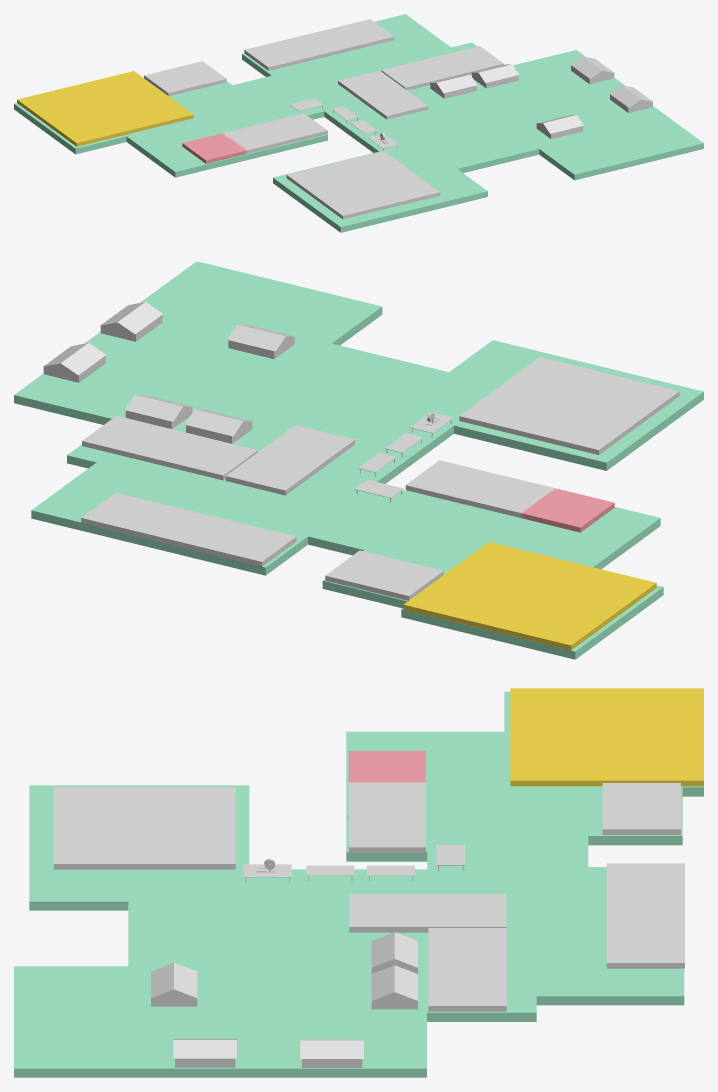
Rendered from schoolmap_1F.glb.
3 renders of one model, top to bottom at view 1: azimuth 30°, elevation 25°; view 2: azimuth 150°, elevation 25°; view 3: azimuth 270°, elevation 25°, orthographic. The views are drawn at different scales.
Visible parts, largest first — view 1: 1F, 1F_ground, 128, 225-1F, 111, 108, 106, 113, 102, 104, 103, stall5 (+4 smaller); view 2: 1F, 1F_ground, 128, 225-1F, 111, 108, 106, 113, 102, 104, 103, stall5 (+4 smaller); view 3: 1F, 1F_ground, 128, 225-1F, 111, 108, 106, 113, 104, 103, 102, stall1 (+6 smaller).
Boxes of the visible parts, x1,y1,x2,y2 form: 1F: (14, 14, 487, 232); 1F_ground: (389, 50, 703, 180); 128: (17, 71, 193, 146); 225-1F: (286, 151, 440, 219); 111: (244, 19, 394, 70); 108: (381, 46, 503, 90); 106: (338, 70, 428, 119); 113: (144, 61, 226, 96); 102: (182, 133, 247, 163); 104: (263, 113, 327, 143); 103: (222, 123, 286, 153); stall5: (571, 56, 614, 84); 1F: (31, 340, 703, 659); 1F_ground: (14, 261, 448, 451); 128: (403, 542, 656, 650); 225-1F: (459, 357, 679, 454); 111: (81, 492, 296, 566); 108: (82, 415, 257, 480); 106: (225, 425, 354, 495); 113: (325, 550, 443, 600); 102: (521, 488, 614, 532); 104: (405, 460, 498, 504); 103: (464, 474, 556, 518); stall5: (43, 342, 105, 382); 1F: (29, 691, 703, 1021); 1F_ground: (14, 901, 426, 1077); 128: (510, 688, 703, 786); 225-1F: (53, 787, 235, 869); 111: (606, 863, 684, 968); 108: (428, 928, 506, 1011); 106: (349, 894, 506, 932); 113: (602, 783, 680, 834); 104: (349, 814, 425, 852); 103: (348, 782, 425, 819); 102: (348, 751, 425, 782); stall1: (371, 965, 417, 1009).
Size of the model in its own units: 8.43 by 0.2822 by 6.52.
